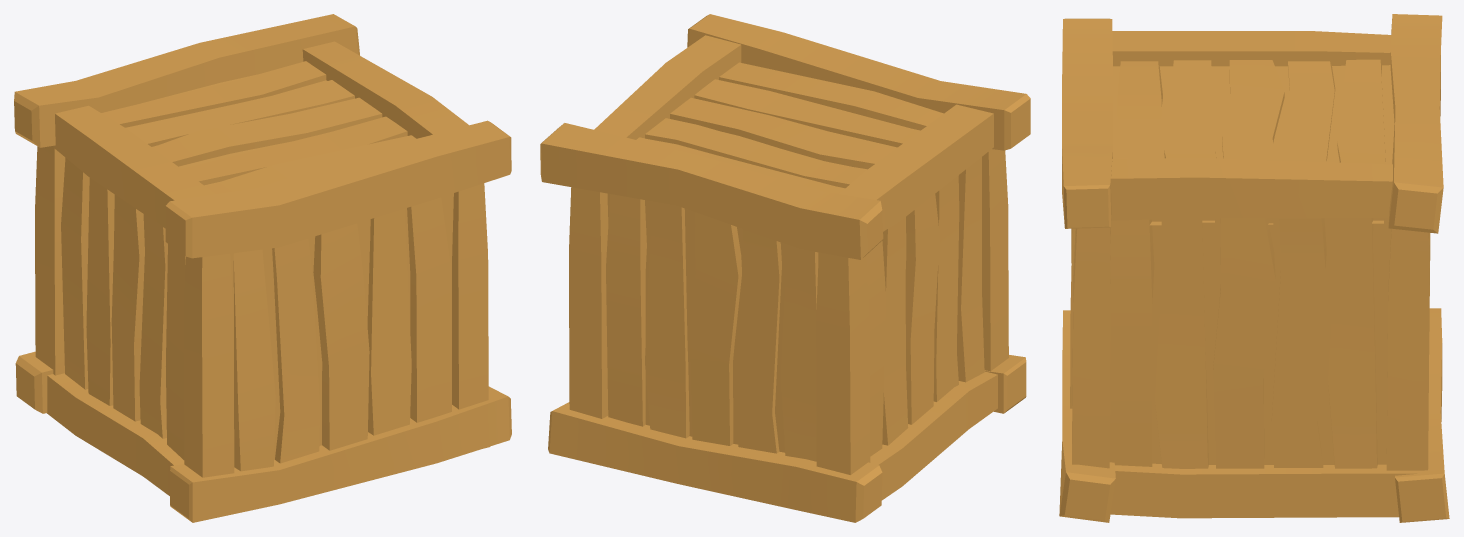
3 renders of one model, left to right at view 1: azimuth 30°, elevation 25°; view 2: azimuth 150°, elevation 25°; view 3: azimuth 270°, elevation 25°, orthographic. The views are drawn at different scales.
Visible parts, largest first — view 1: Cube; view 2: Cube; view 3: Cube.
Boxes of the visible parts, x1,y1,x2,y2 form: Cube: (14,14,511,522); Cube: (540,14,1030,522); Cube: (1059,14,1449,522).
Size of the model in its own units: 339 by 309 by 314.
